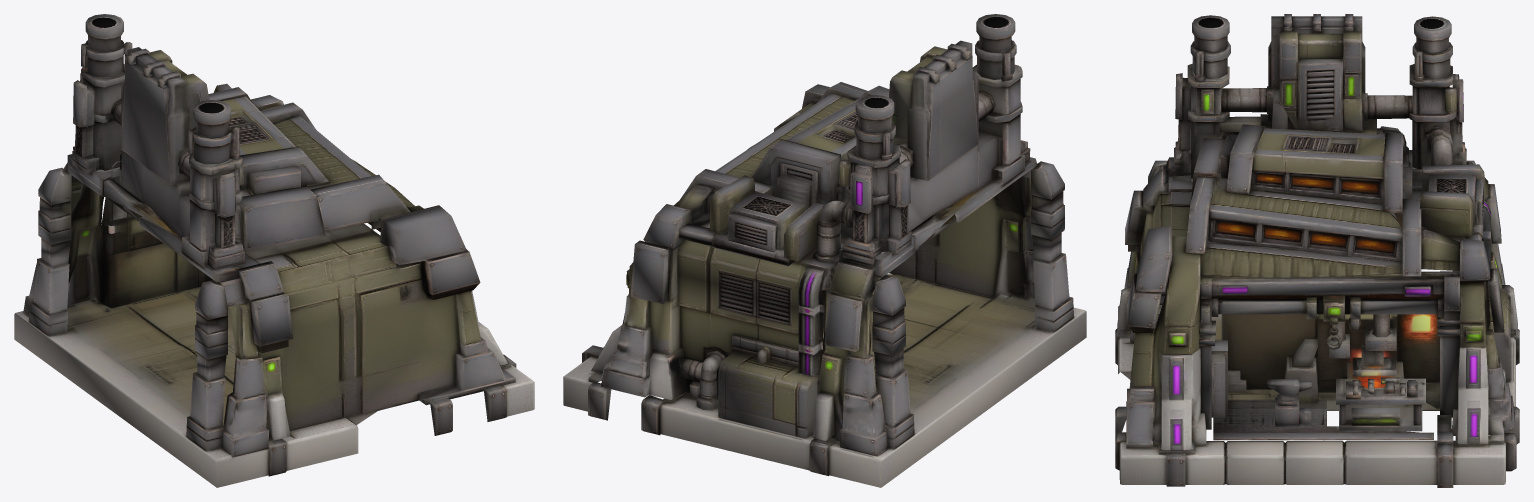
File: forge_l05.glb
3 views of the same model, side by side, from view 1: azimuth 30°, elevation 25°; view 2: azimuth 150°, elevation 25°; view 3: azimuth 270°, elevation 25° (orthographic). The views are drawn at different scales.
Parts seen in each view (by area): view 1: tripo_node_378c02e1-9abe-4a38-84af-b44192604b2b; view 2: tripo_node_378c02e1-9abe-4a38-84af-b44192604b2b; view 3: tripo_node_378c02e1-9abe-4a38-84af-b44192604b2b.
Part boxes in pixels (x1,y1,x2,y2): tripo_node_378c02e1-9abe-4a38-84af-b44192604b2b: (14,14,534,487); tripo_node_378c02e1-9abe-4a38-84af-b44192604b2b: (563,14,1086,487); tripo_node_378c02e1-9abe-4a38-84af-b44192604b2b: (1115,14,1519,487).
Bounding box in the file's own units: 0.9155 × 0.9136 × 0.9995.
Materials: 1 (1 with a texture image).
